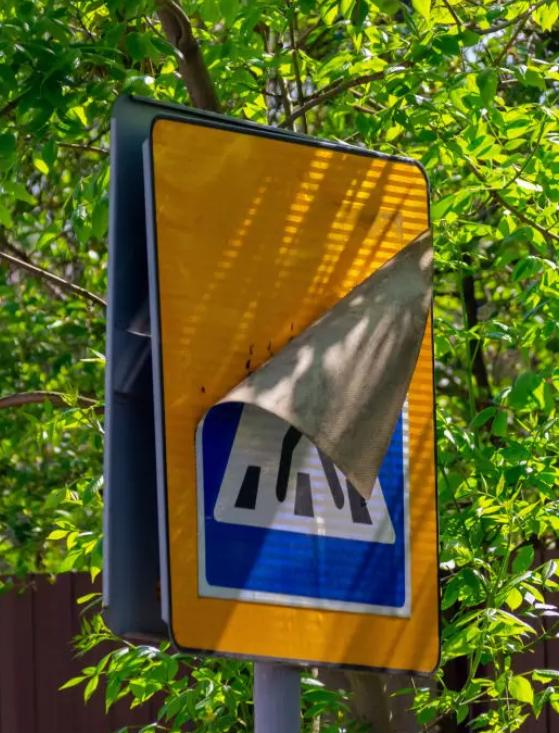obstructed_road_sign: (145, 116, 439, 673)
